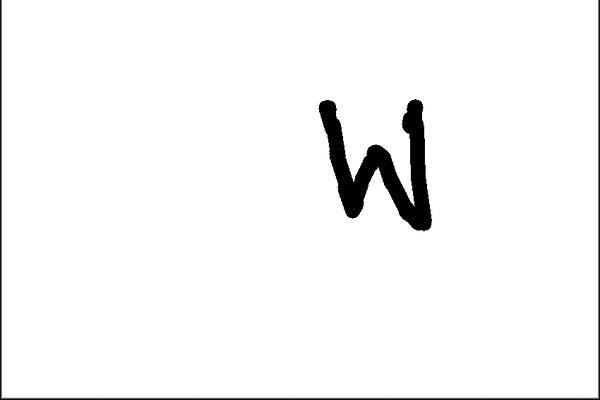w: (304, 78, 457, 251)
